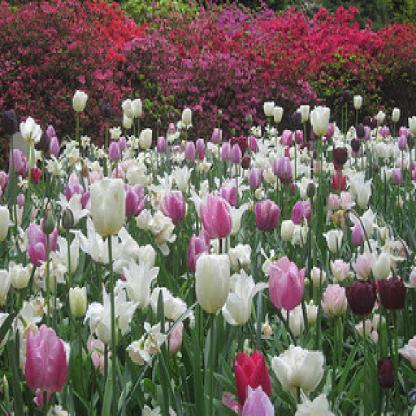TULIP: (16, 86, 411, 410)
